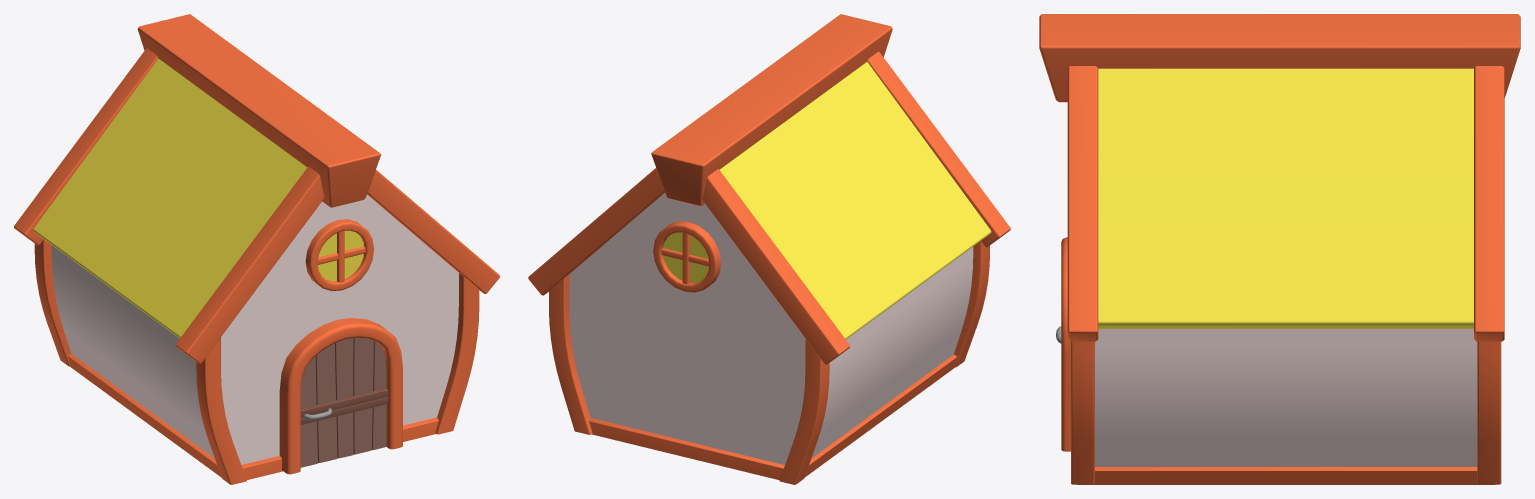
File: Farm_6_Pig_House_1.glb
3 renders of one model, left to right at view 1: azimuth 30°, elevation 25°; view 2: azimuth 150°, elevation 25°; view 3: azimuth 270°, elevation 25°, orthographic. The views are drawn at different scales.
Parts seen in each view (by area): view 1: Farm_6_Pig_House_1; view 2: Farm_6_Pig_House_1; view 3: Farm_6_Pig_House_1.
Boxes of the visible parts, <box> form: Farm_6_Pig_House_1: <box>14,14,499,484</box>; Farm_6_Pig_House_1: <box>528,14,1010,484</box>; Farm_6_Pig_House_1: <box>1039,14,1520,484</box>.
Size of the model in its own units: 5.07 by 4.77 by 5.36.
Materials: 1 (1 with a texture image).
